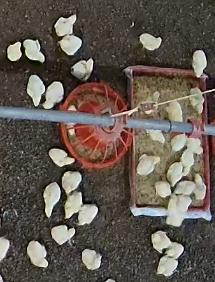chick: (26, 73, 46, 107), (41, 80, 64, 109), (43, 181, 61, 218), (166, 190, 184, 227), (27, 240, 49, 269), (75, 202, 99, 228), (48, 225, 77, 246), (53, 13, 78, 37), (63, 190, 83, 218), (23, 39, 46, 63), (190, 48, 208, 78), (71, 57, 95, 79), (59, 34, 83, 55), (64, 105, 80, 136), (81, 248, 103, 270), (62, 170, 83, 193), (157, 254, 178, 277), (138, 154, 161, 175), (50, 149, 75, 167), (150, 231, 172, 251), (138, 32, 162, 50), (164, 100, 183, 122), (166, 161, 182, 187), (192, 172, 206, 199), (190, 87, 204, 114), (163, 242, 185, 258), (181, 148, 194, 175), (144, 129, 167, 144), (186, 136, 204, 155), (174, 180, 195, 196), (7, 40, 22, 62), (168, 134, 187, 151), (176, 193, 192, 213), (154, 180, 172, 197)
rice: (124, 64, 211, 221), (58, 83, 132, 168)
